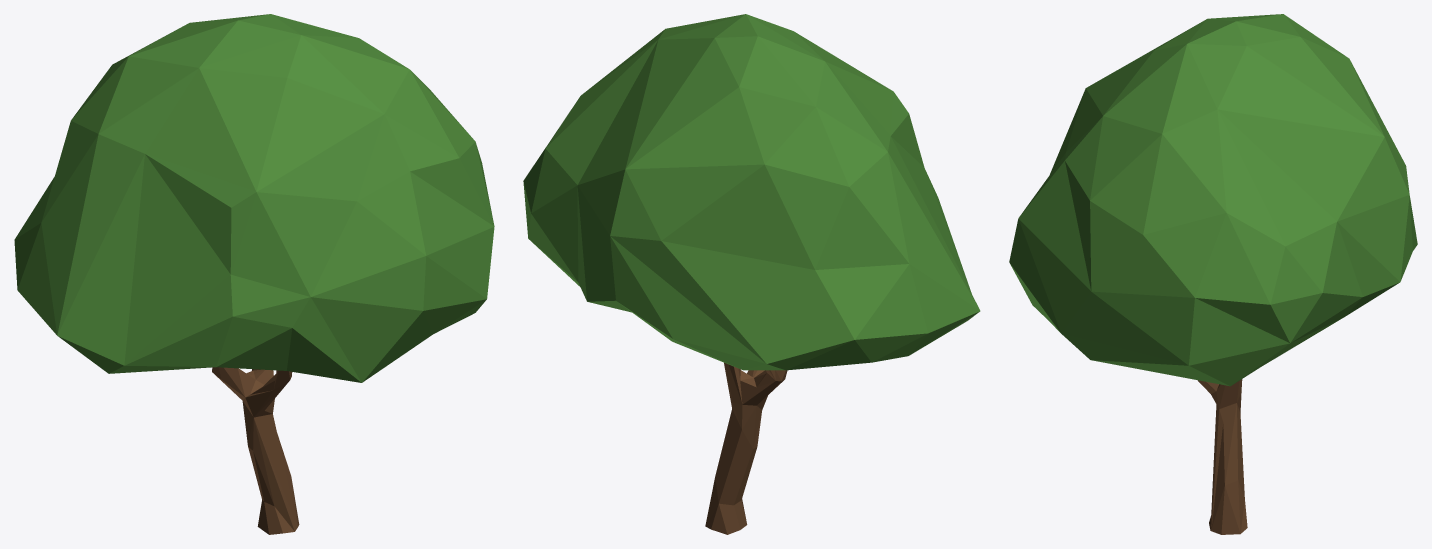
File: shaped-tree-round.glb
3 views of the same model, side by side, from view 1: azimuth 30°, elevation 25°; view 2: azimuth 150°, elevation 25°; view 3: azimuth 270°, elevation 25° (orthographic). The views are drawn at different scales.
Parts seen in each view (by area): view 1: leaves_Icosphere.002, trunk_Cube; view 2: leaves_Icosphere.002, trunk_Cube; view 3: leaves_Icosphere.002, trunk_Cube.
Boxes of the visible parts, box(x1,y1,x2,y2) form: leaves_Icosphere.002: box(14, 14, 494, 382); trunk_Cube: box(212, 367, 299, 534); leaves_Icosphere.002: box(523, 14, 980, 370); trunk_Cube: box(705, 362, 787, 534); leaves_Icosphere.002: box(1009, 14, 1417, 386); trunk_Cube: box(1198, 379, 1247, 534).
Size of the model in its own units: 7.01 by 7.99 by 6.04.
